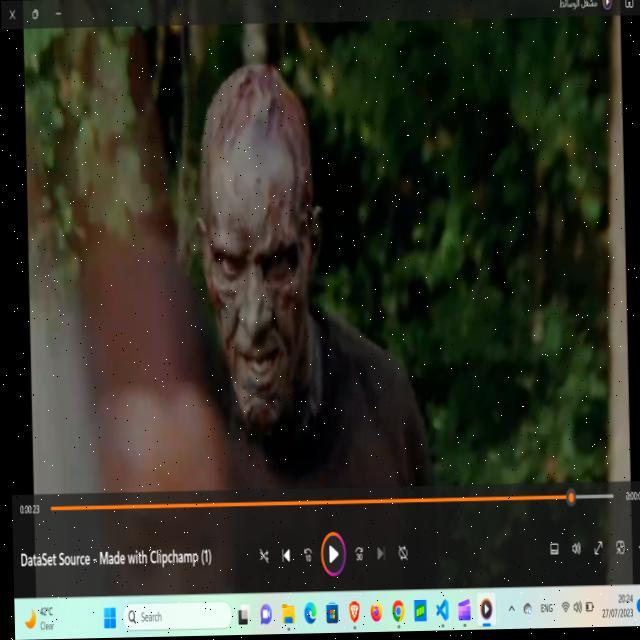Zombie: (189, 77, 323, 433)
